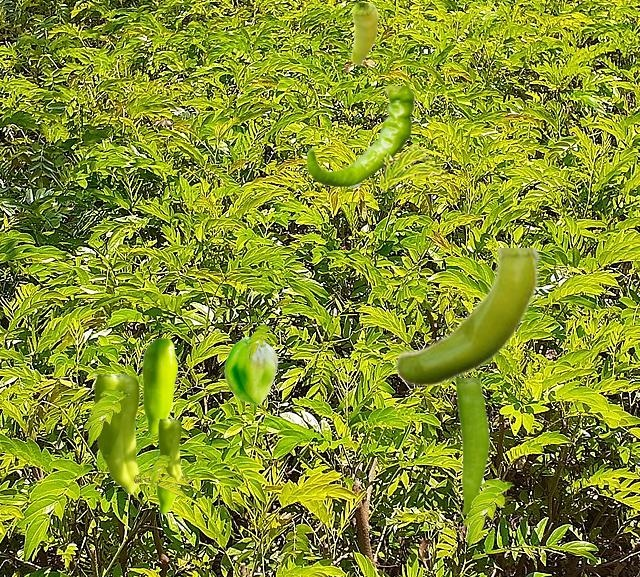green_chili: (393, 248, 540, 384), (306, 86, 414, 187), (92, 374, 138, 493), (454, 378, 488, 514), (224, 337, 277, 404), (142, 338, 176, 434), (350, 3, 378, 64), (157, 419, 180, 480), (156, 452, 177, 513)
